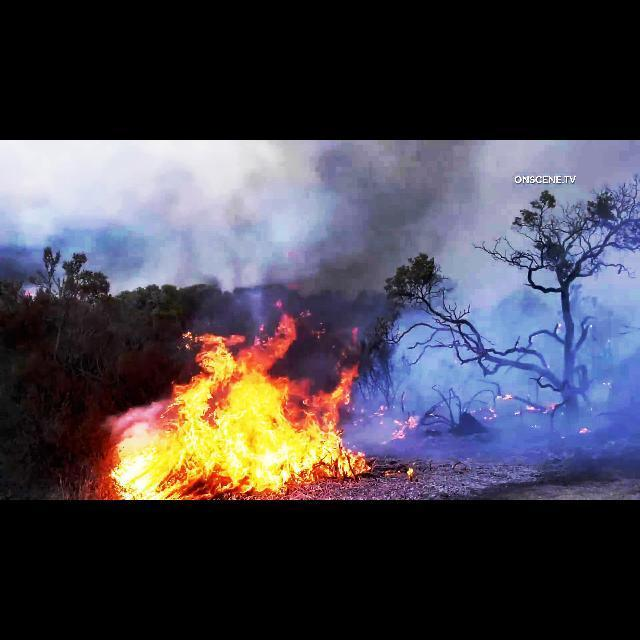Fire: (116, 336, 362, 486)
